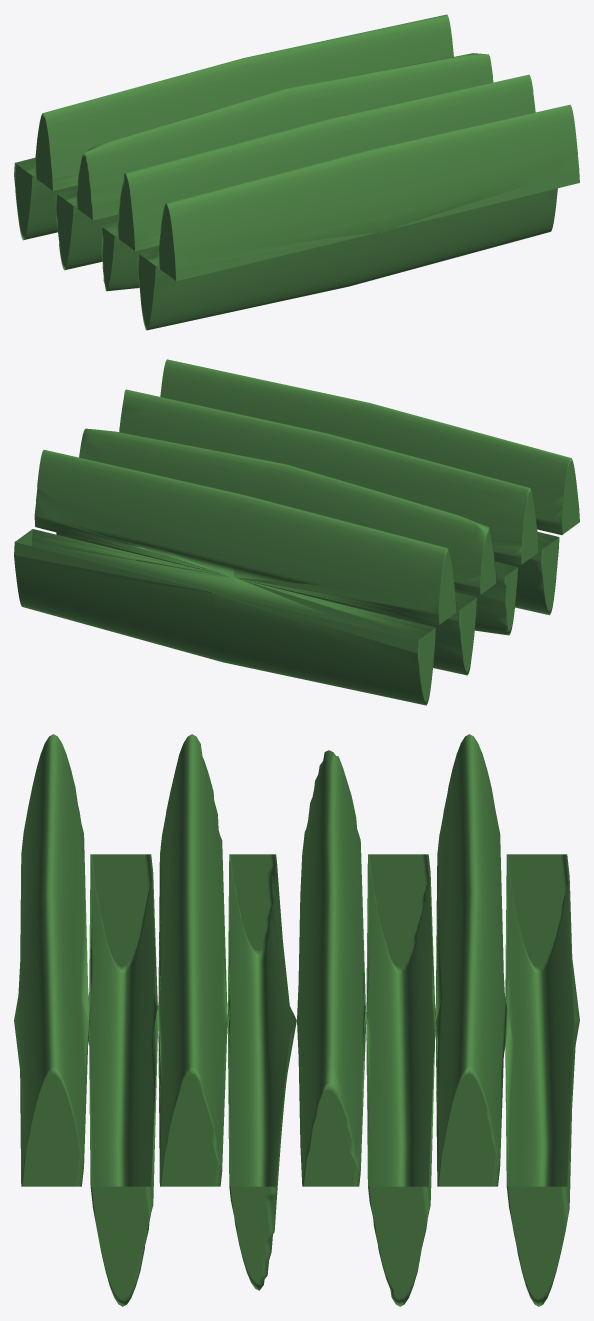
The model's file is electromagnetic_wave_ar_universal.glb.
The picture shows the model from 3 angles, top to bottom: view 1: azimuth 30°, elevation 25°; view 2: azimuth 150°, elevation 25°; view 3: azimuth 270°, elevation 25°; orthographic projection. The views are drawn at different scales.
Visible parts, largest first — view 1: electromagnetic_wave_ar; view 2: electromagnetic_wave_ar; view 3: electromagnetic_wave_ar.
Boxes of the visible parts, x1,y1,x2,y2 form: electromagnetic_wave_ar: [14, 14, 579, 330]; electromagnetic_wave_ar: [14, 359, 579, 705]; electromagnetic_wave_ar: [14, 734, 579, 1306].
Size of the model in its own units: 1 by 0.3601 by 0.7199.
